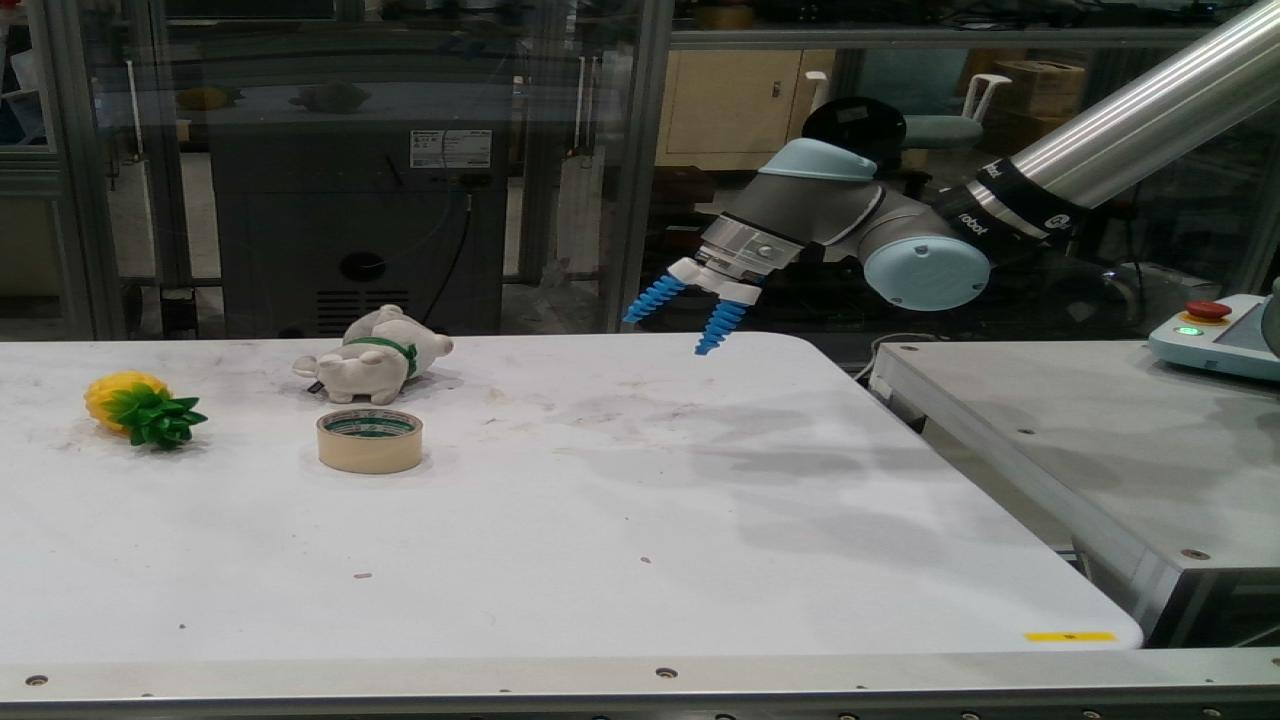UR5: (670, 6, 1276, 308), (1148, 290, 1278, 382)
gripper_left: (626, 274, 680, 322)
gripper_right: (702, 300, 742, 352)
target: (298, 307, 454, 404), (88, 372, 204, 448), (318, 412, 420, 472)
